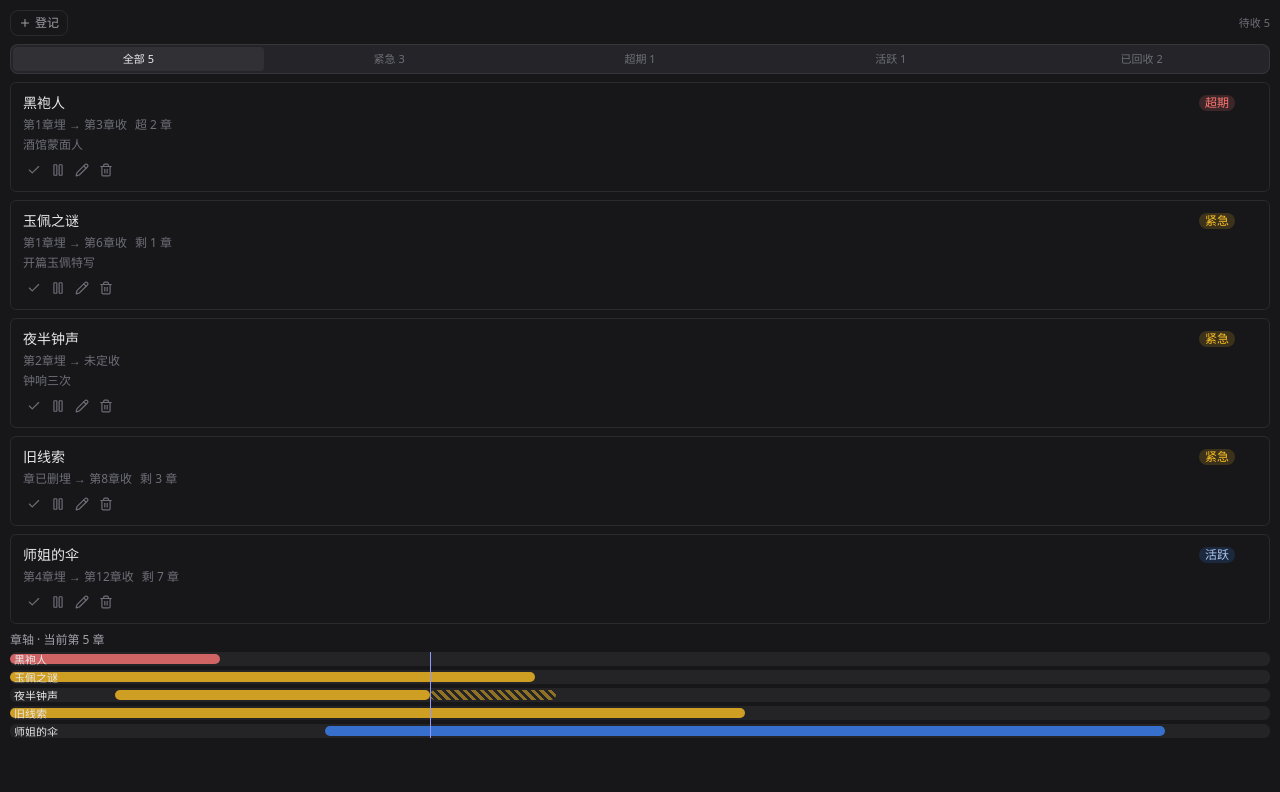
Scenario: ForeshadowPanel › 登记：表单默认当前章，提交调 foreshadowUpsert 并刷新列表
Click the button "登记" at {"x": 39, "y": 23}, box [10,10,68,36]
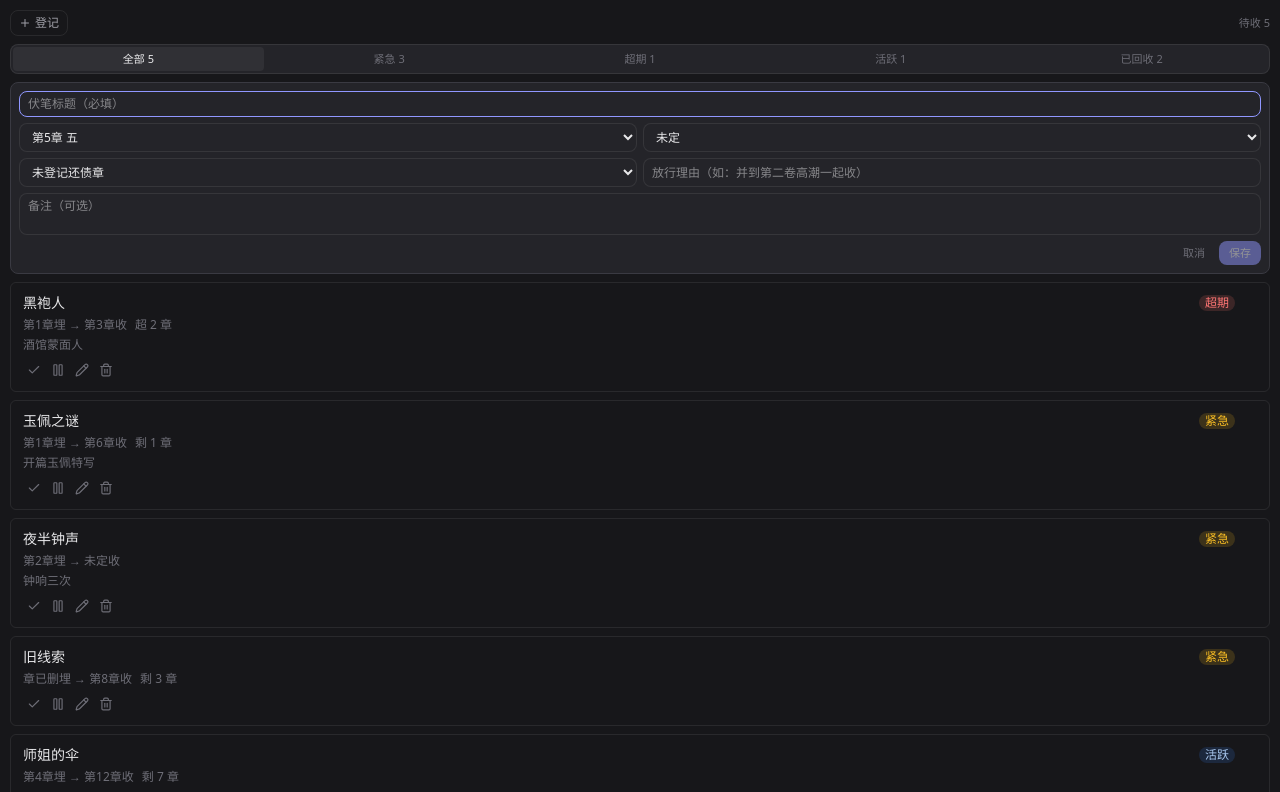
Type "灯火阑珊" into the field with placeholder "伏笔标题（必填）" at {"x": 640, "y": 104}, box [19,91,1261,117]
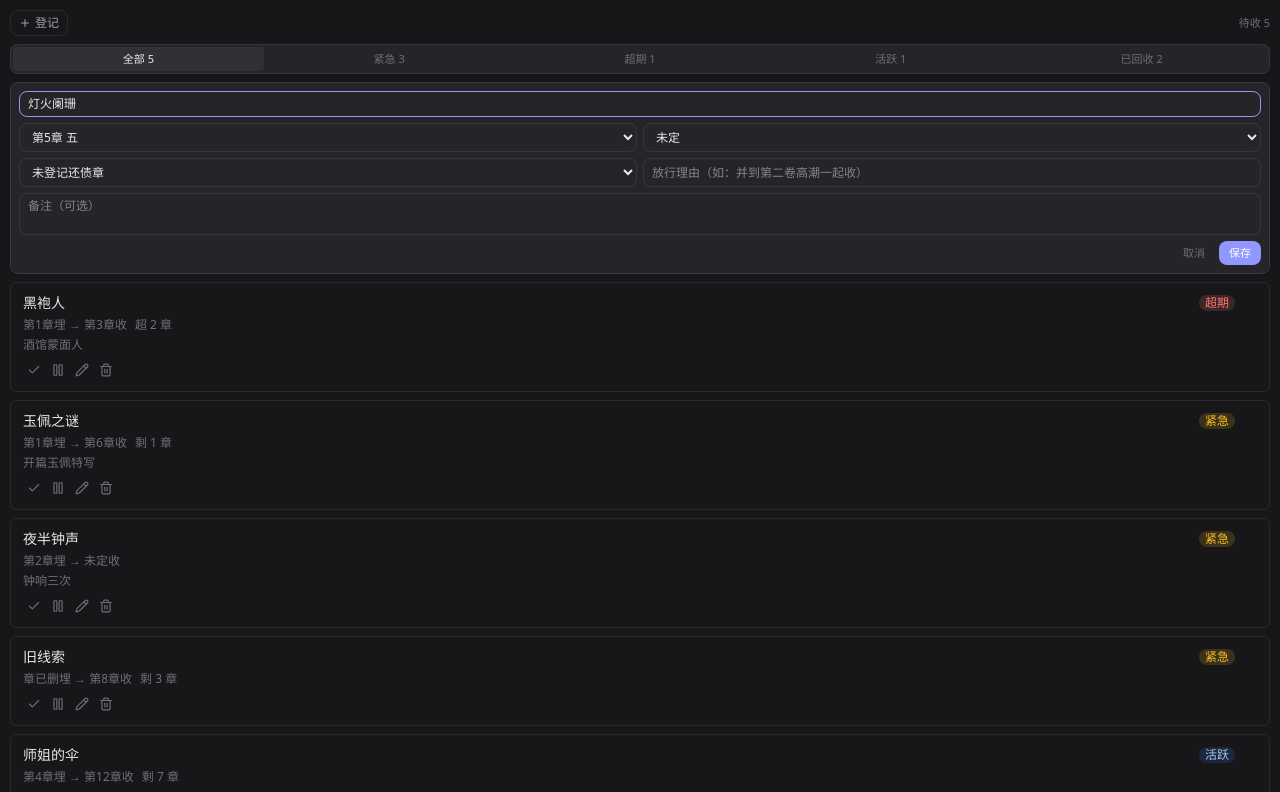
Expected: the dropdown titled "埋设章" shows "第5章 五"
Select "第1章 一" in the dropdown titled "埋设章" at {"x": 328, "y": 138}, box [19,123,637,152]
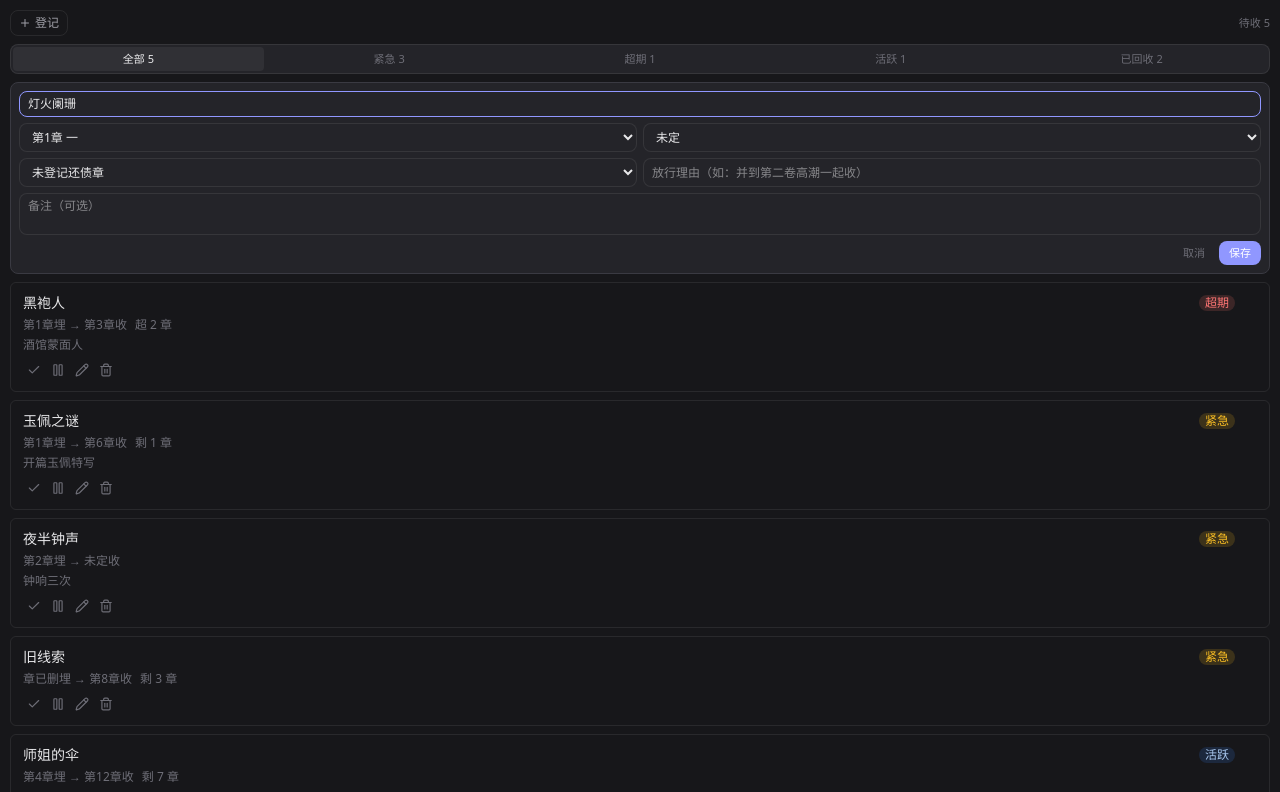
Expected: the dropdown titled "计划回收章" shows "未定"
Select "第9章 九" in the dropdown titled "计划回收章" at {"x": 952, "y": 138}, box [643,123,1261,152]
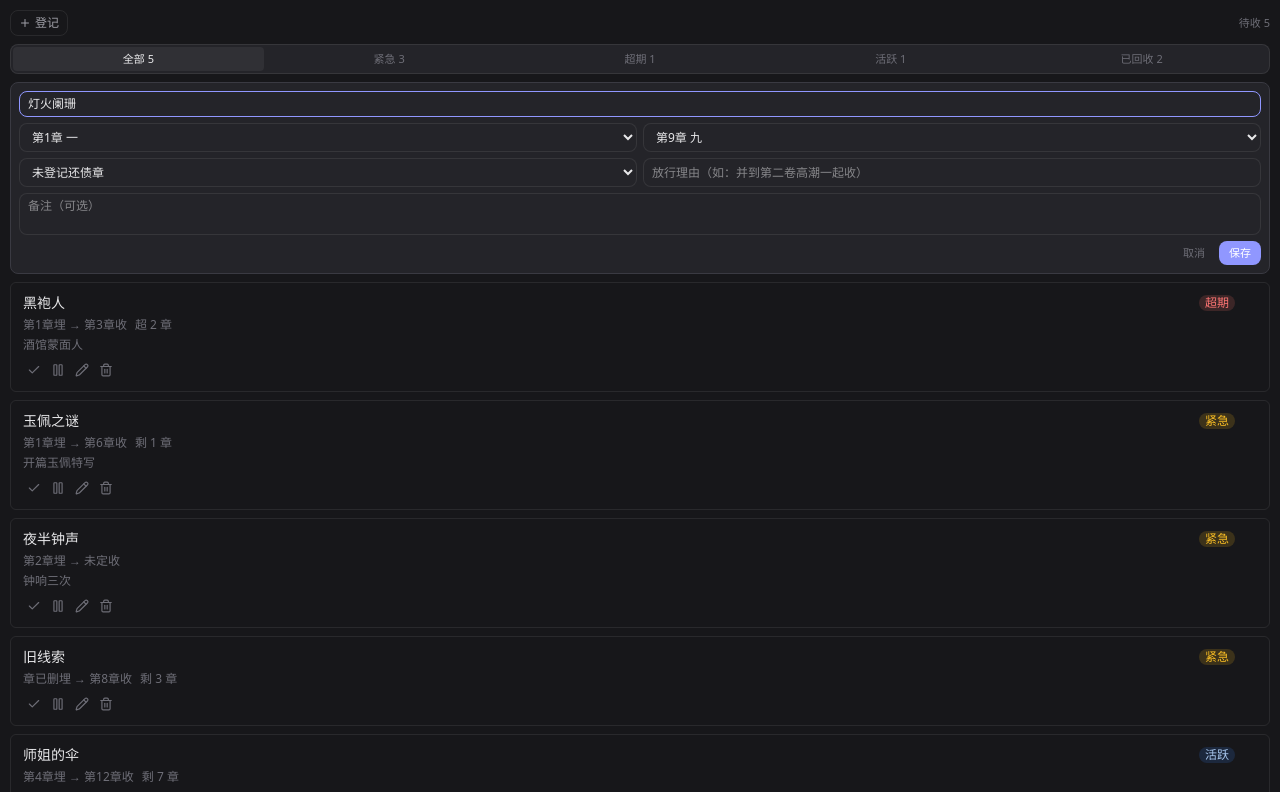
Type "长街的灯笼" into the text box with placeholder "备注（可选）" at {"x": 640, "y": 214}, box [19,193,1261,235]
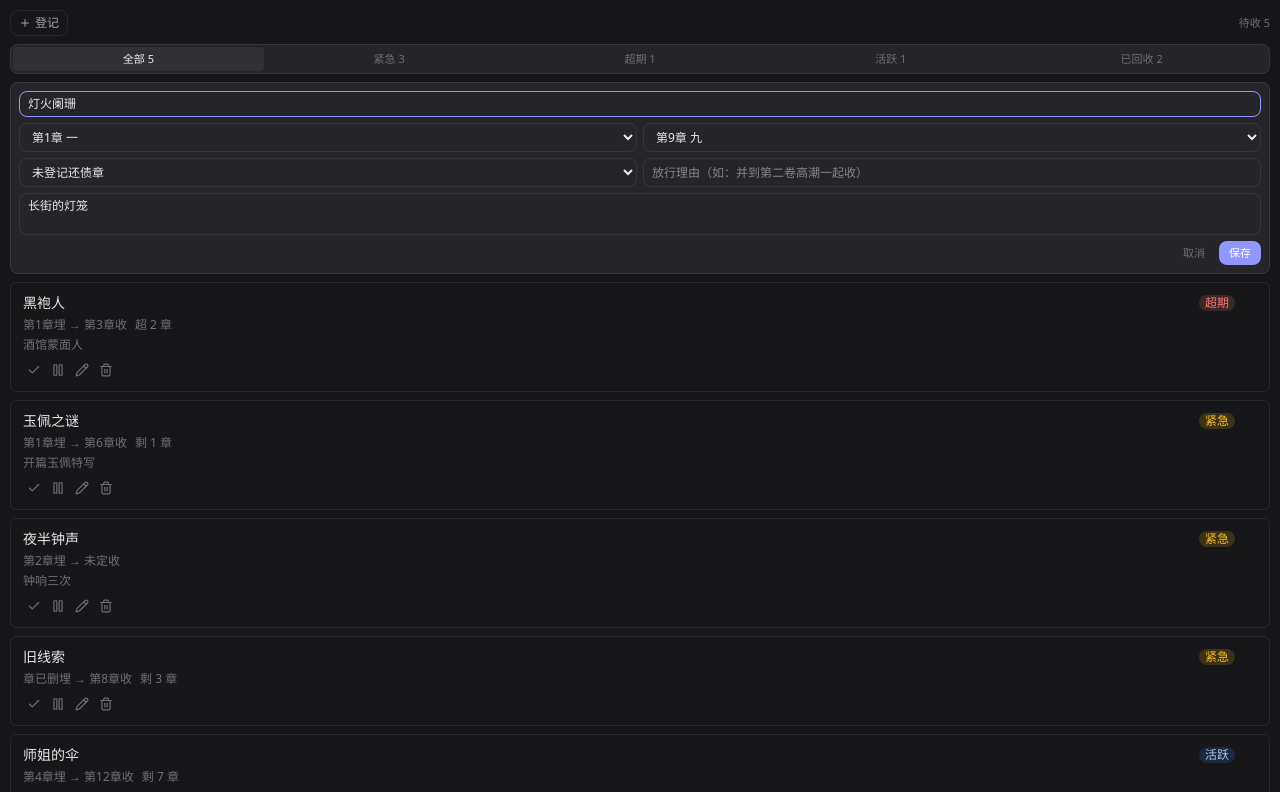
Click the button "保存" at {"x": 1240, "y": 253}, box [1219,241,1261,265]
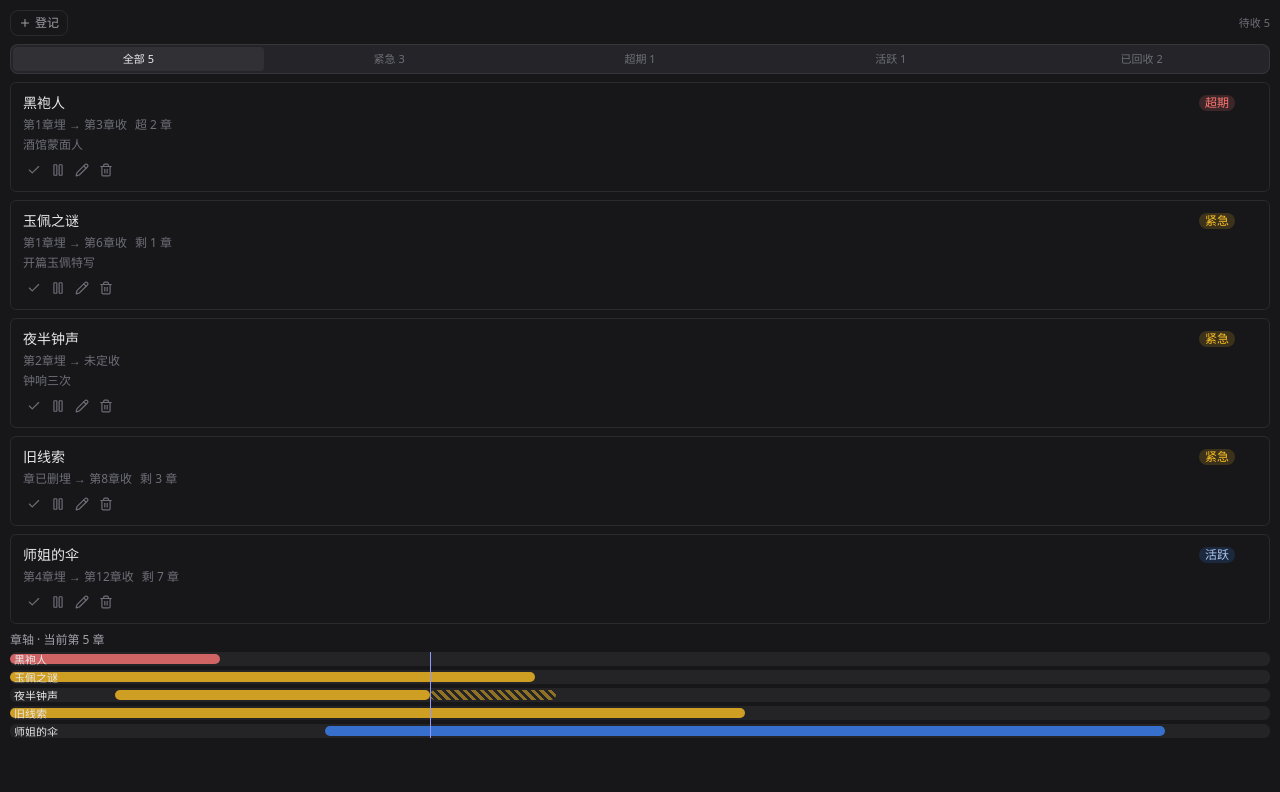
Expected: the field with placeholder "伏笔标题（必填）" is gone
